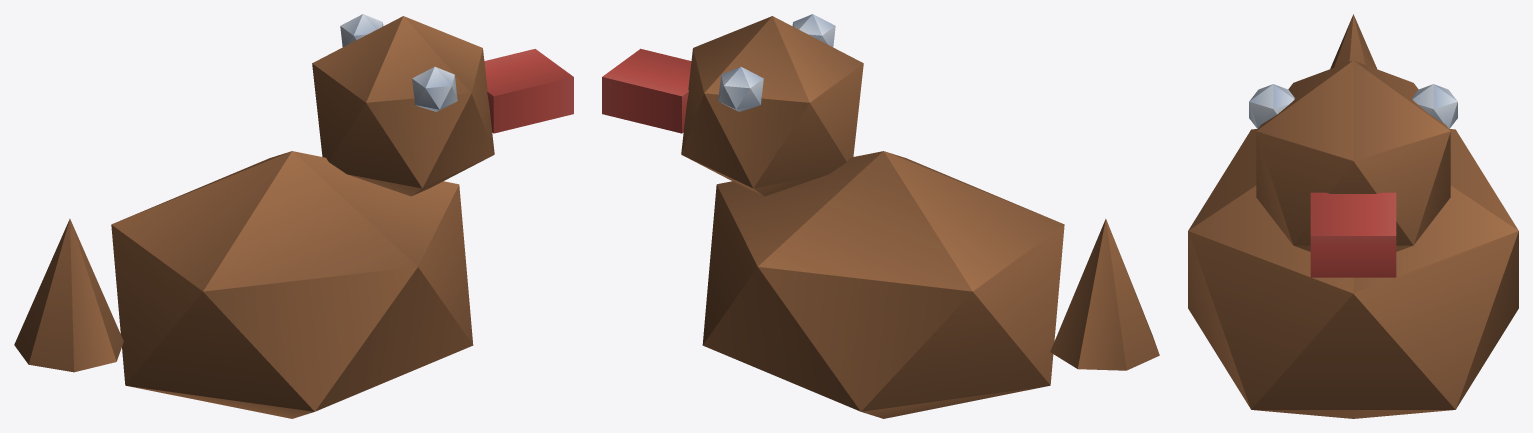
Rendered from rubber_duck.fbx.
The picture shows the model from 3 angles, left to right: view 1: azimuth 30°, elevation 25°; view 2: azimuth 150°, elevation 25°; view 3: azimuth 270°, elevation 25°; orthographic projection. The views are drawn at different scales.
Parts seen in each view (by area): view 1: rubber_duck; view 2: rubber_duck; view 3: rubber_duck.
Part boxes in pixels (bbox=[...]): rubber_duck: bbox=[14, 14, 573, 418]; rubber_duck: bbox=[602, 14, 1159, 418]; rubber_duck: bbox=[1188, 14, 1518, 418].
Bounding box in the file's own units: 160 × 108 × 77.3.
